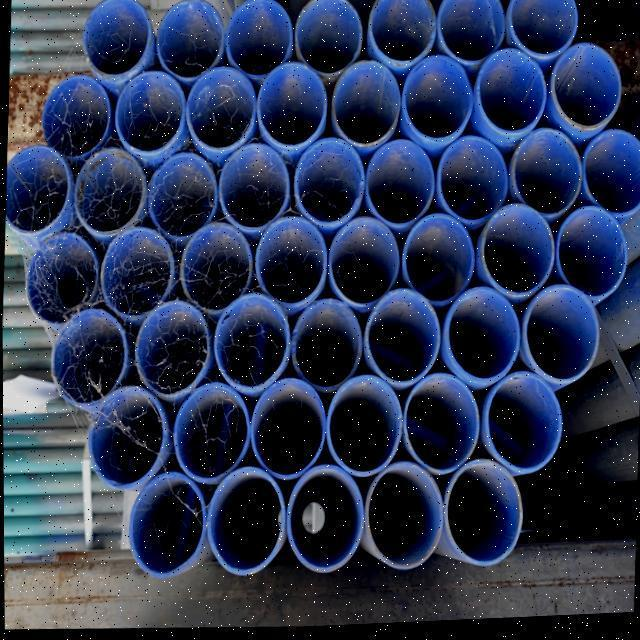pipe: (357, 459, 440, 570), (434, 458, 519, 566), (124, 472, 206, 573), (80, 384, 163, 483), (208, 467, 284, 571), (400, 372, 476, 476), (483, 372, 558, 477), (548, 206, 626, 305), (521, 284, 598, 384), (288, 466, 361, 571), (130, 297, 207, 396), (323, 373, 397, 475), (474, 204, 550, 303), (360, 288, 436, 386), (441, 289, 519, 384), (212, 291, 286, 390), (49, 309, 124, 406), (250, 381, 322, 482), (171, 385, 246, 481), (21, 231, 98, 322), (505, 128, 579, 221), (99, 228, 171, 321), (401, 215, 472, 307), (398, 53, 469, 144), (326, 218, 397, 308), (178, 221, 247, 313), (289, 140, 361, 228), (287, 302, 357, 392), (75, 152, 148, 238), (433, 140, 505, 227), (251, 218, 322, 306), (362, 140, 432, 228), (328, 61, 398, 149), (219, 142, 288, 231), (255, 60, 324, 149), (144, 153, 214, 240), (472, 53, 543, 137), (183, 66, 253, 151), (153, 2, 224, 84), (41, 77, 109, 162), (5, 143, 68, 234), (113, 70, 182, 153), (551, 47, 619, 128), (580, 134, 640, 223), (225, 0, 290, 80), (81, 0, 148, 77), (294, 0, 360, 76), (365, 0, 435, 66), (432, 0, 503, 63), (505, 0, 574, 59)
